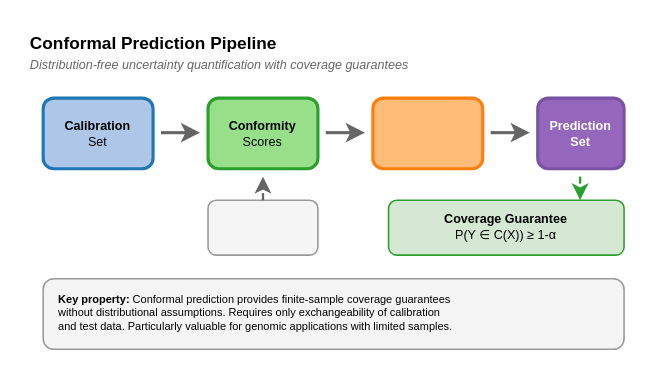
The diagram is 652 pixels wide and 377 high, and some of its shapes have lost their labels. Each missing label, with the centre of its shape:
New Test Point: point 262,227
Threshold (1-α quantile): point 427,133
